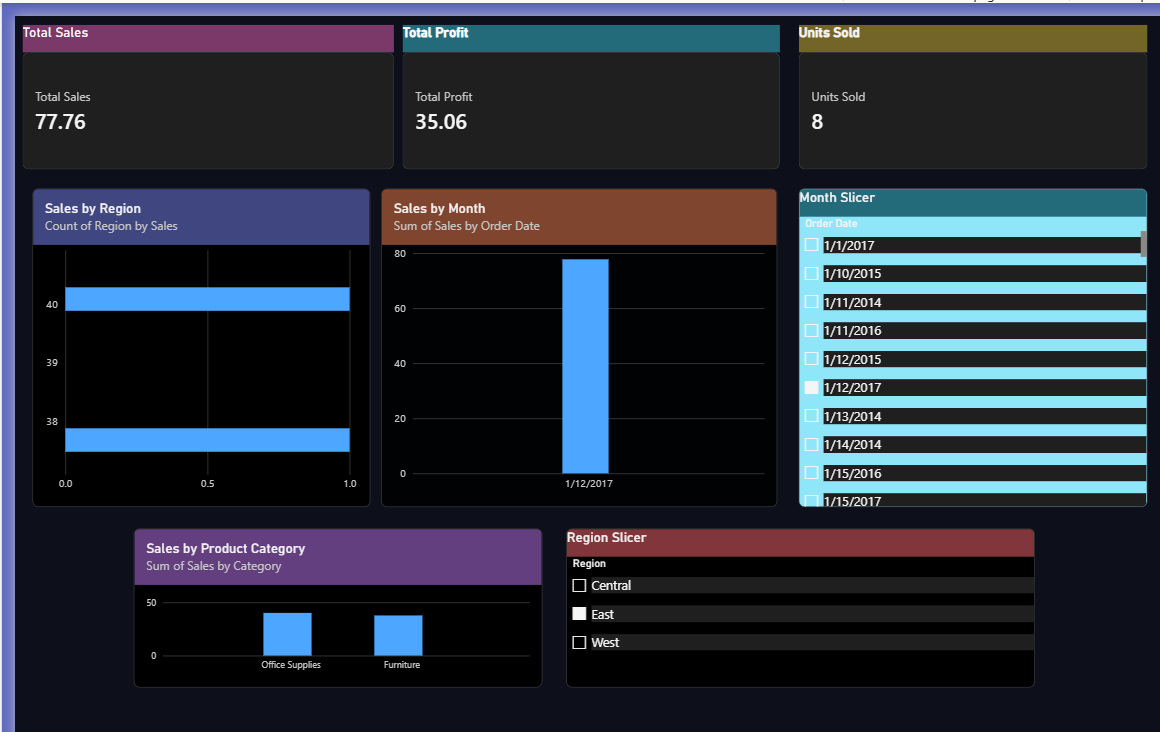

What the dashboard file says about the page in this screenshot:
{"tool":"powerbi","page":{"name":"Page 1","canvas":[1920,1080],"ordinal":0},"visuals":[{"type":"clusteredColumnChart","title":"Sales by Month","fields":{"Category":["Sample - Superstore.Order Date"],"Y":["Sum(Sample - Superstore.Sales)"]},"box":[488.3,230,528.3,425],"z":1000},{"type":"barChart","title":"Sales by Region","fields":{"Category":["Sample - Superstore.Sales"],"Y":["CountNonNull(Sample - Superstore.Region)"]},"box":[40,230,433.3,425],"z":2000},{"type":"clusteredColumnChart","title":"Sales by Product Category","fields":{"Category":["Sample - Superstore.Category"],"Y":["Sum(Sample - Superstore.Sales)"]},"box":[208.3,683.3,545,211.7],"z":3000},{"type":"slicer","title":"Month Slicer","fields":{"Values":["Sample - Superstore.Order Date"]},"box":[1045,230,465,425],"z":4000},{"type":"slicer","title":"Region Slicer","fields":{"Values":["Sample - Superstore.Region"]},"box":[793.3,683.3,620,200],"z":5000},{"type":"cardVisual","title":"Total Sales","fields":{"Data":["Sample - Superstore.Total Sales"]},"box":[23.3,11.7,493.3,181.7],"z":6000},{"type":"cardVisual","title":"Total Profit","fields":{"Data":["Sample - Superstore.Total Profit"]},"box":[516.7,11.7,503.3,193.3],"z":6001},{"type":"cardVisual","title":"Units Sold","fields":{"Data":["Sample - Superstore.Units Sold"]},"box":[1045,11.7,465,193.3],"z":6002}]}

Visuals, with their boxes on the page's 1920x1080 design canvas (x1, y1, x2, y2). These are canvas units, not pixel positions in the 1160x732 screenshot, which may show the page scaled, cropped or inside an application window:
"Sales by Month" clusteredColumnChart: Rect(488, 230, 1017, 655)
"Sales by Region" barChart: Rect(40, 230, 473, 655)
"Sales by Product Category" clusteredColumnChart: Rect(208, 683, 753, 895)
"Month Slicer" slicer: Rect(1045, 230, 1510, 655)
"Region Slicer" slicer: Rect(793, 683, 1413, 883)
"Total Sales" cardVisual: Rect(23, 12, 517, 193)
"Total Profit" cardVisual: Rect(517, 12, 1020, 205)
"Units Sold" cardVisual: Rect(1045, 12, 1510, 205)
